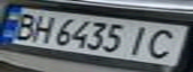3: (87, 19, 109, 52)
4: (69, 18, 90, 51)
5: (103, 20, 130, 55)
6: (51, 16, 75, 47)
B: (6, 10, 42, 40)
C: (142, 26, 193, 61)
H: (27, 12, 57, 44)
I: (124, 24, 160, 57)
